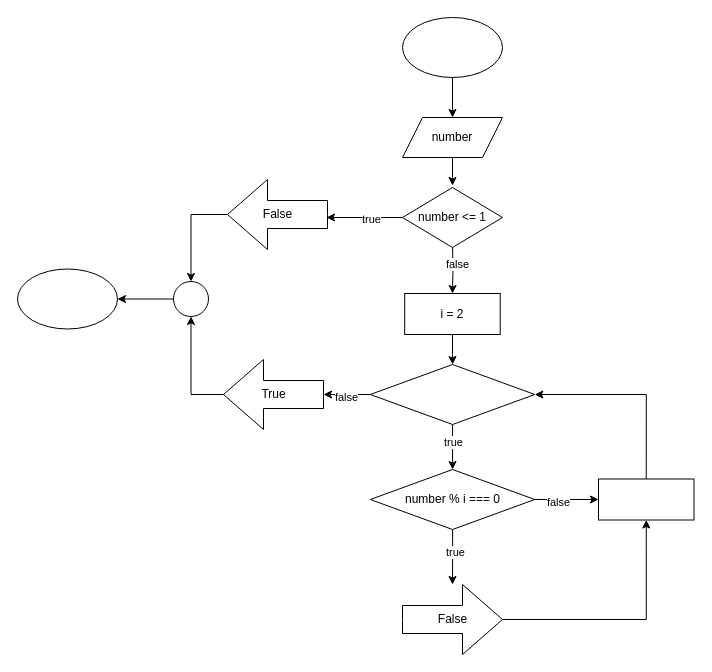
This 712x672 diagram has some shape labels left out. The shapes that lost their labels are listed below. From the top down, each one's centre as x and y in pixels, then its label:
pixel 452 47: Start
pixel 67 298: End
pixel 452 394: i <= Math.sqrt(number)
pixel 646 499: i = i + 1
